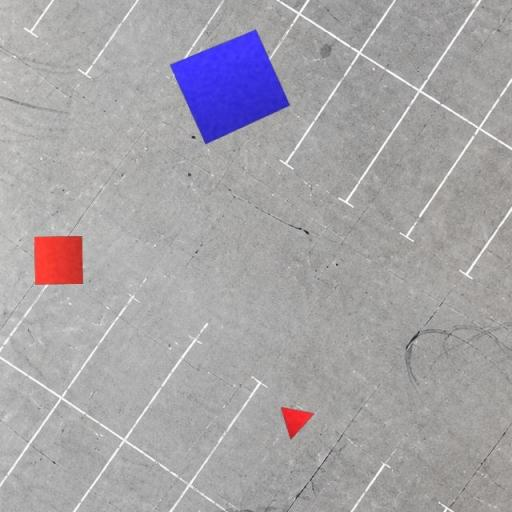BLUE_SQUARE: (169, 29, 291, 145)
RED_SQUARE: (34, 236, 83, 285)
